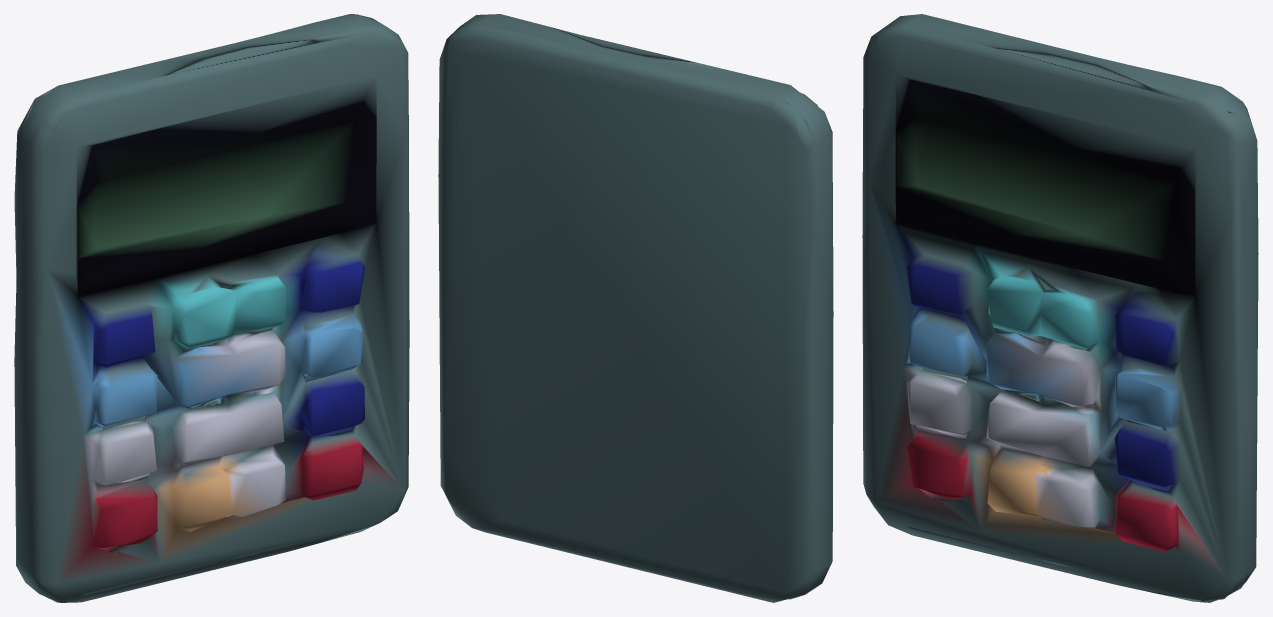
File: gen3d-calculator-lod1.glb
The picture shows the model from 3 angles, left to right: view 1: azimuth 30°, elevation 25°; view 2: azimuth 150°, elevation 25°; view 3: azimuth 330°, elevation 25°; orthographic projection.
Visible parts, largest first — view 1: part_0; view 2: part_0; view 3: part_0.
Part boxes in pixels (<box>): part_0: <box>14,14,409,602</box>; part_0: <box>438,14,833,602</box>; part_0: <box>862,14,1258,602</box>.
Bounding box in the file's own units: 0.7781 × 0.9985 × 0.1359.
